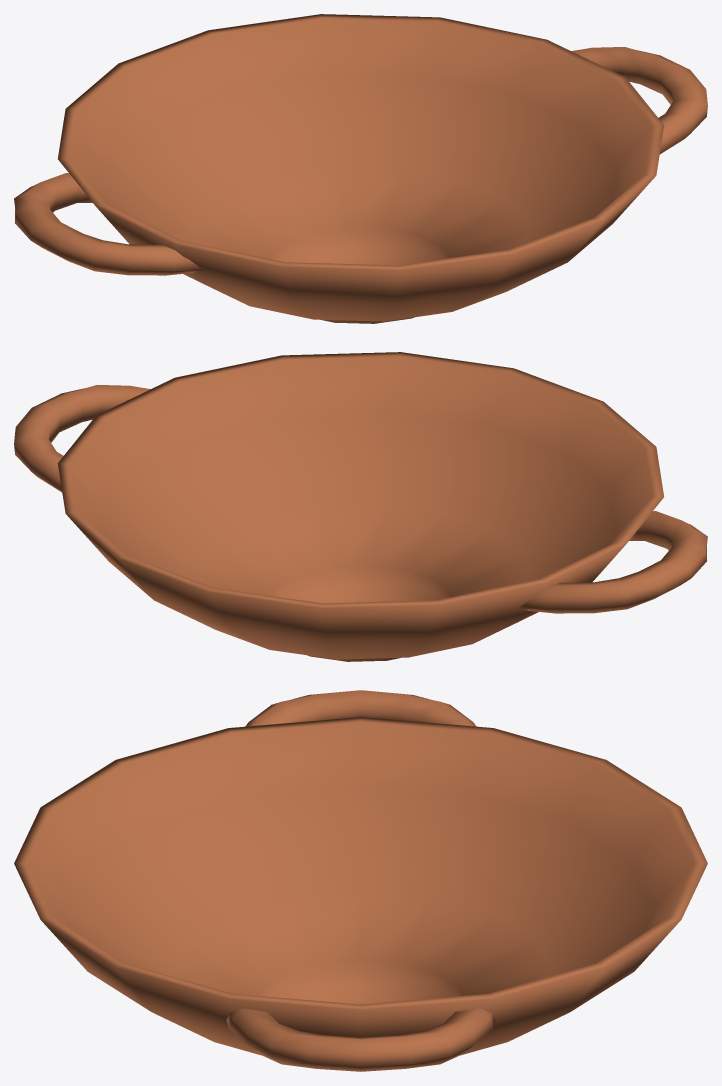
File: Bowl 2.fbx
The picture shows the model from 3 angles, top to bottom: view 1: azimuth 30°, elevation 25°; view 2: azimuth 150°, elevation 25°; view 3: azimuth 270°, elevation 25°; orthographic projection. The views are drawn at different scales.
Visible parts, largest first — view 1: Bowl 2; view 2: Bowl 2; view 3: Bowl 2.
Part boxes in pixels (x1,y1,x2,y2): Bowl 2: [14, 14, 707, 323]; Bowl 2: [14, 352, 707, 661]; Bowl 2: [14, 690, 707, 1071].
Bounding box in the file's own units: 0.403 × 0.081 × 0.3229.
